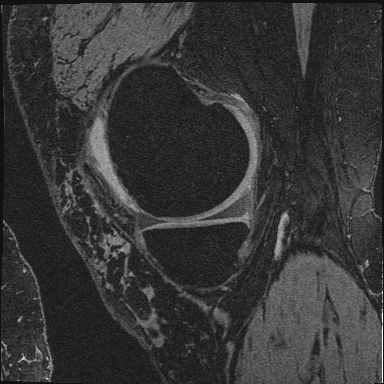effusion: (91, 126, 112, 182)
